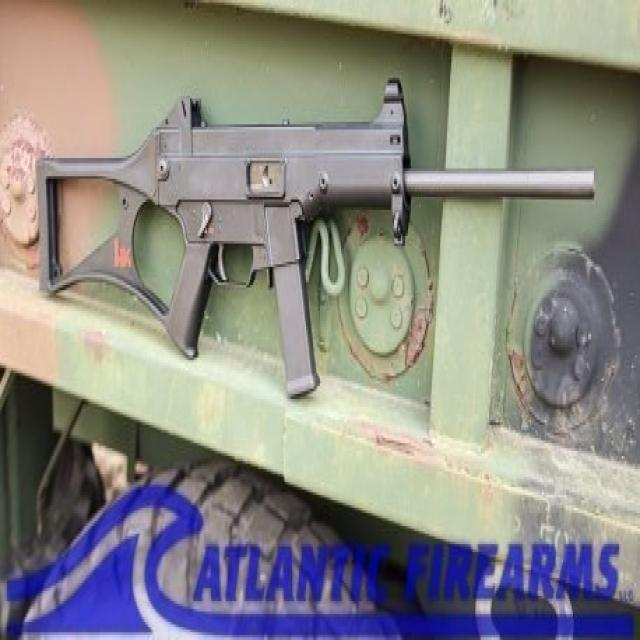SMG: (41, 80, 597, 399)
